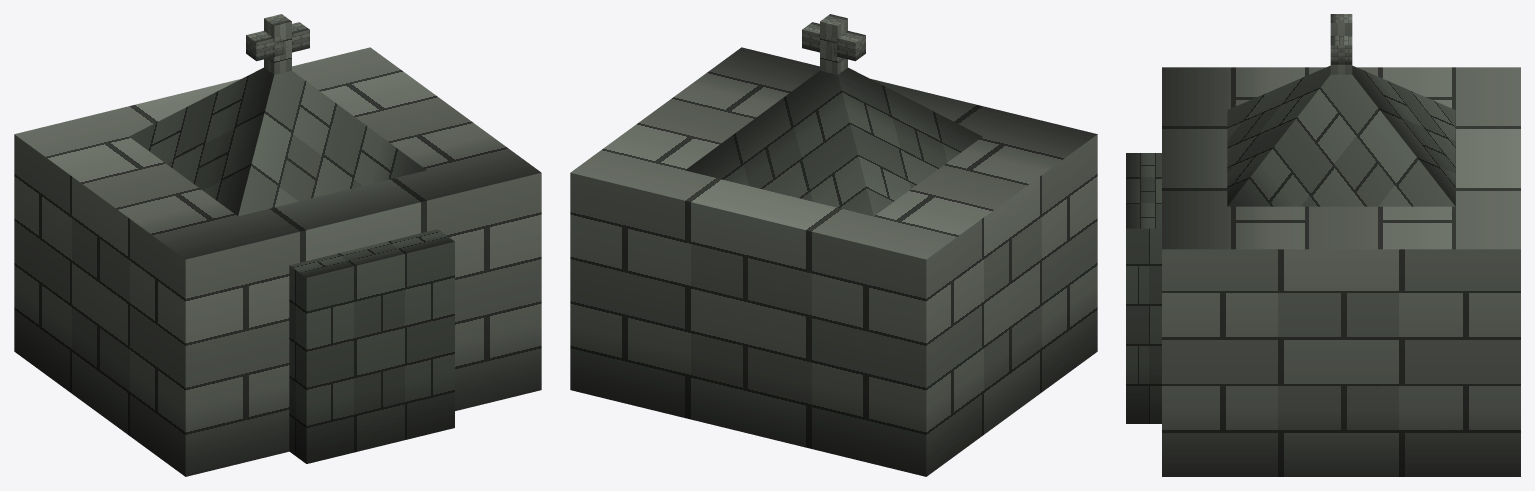
Rendered from crypt.glb.
3 renders of one model, left to right at view 1: azimuth 30°, elevation 25°; view 2: azimuth 150°, elevation 25°; view 3: azimuth 270°, elevation 25°, orthographic. The views are drawn at different scales.
Visible parts, largest first — view 1: crypt; view 2: crypt; view 3: crypt.
Boxes of the visible parts, x1,y1,x2,y2 form: crypt: [14, 14, 541, 476]; crypt: [570, 14, 1097, 476]; crypt: [1126, 14, 1520, 476].
Bounding box in the file's own units: 1.2 × 1.13 × 1.1.
Materials: 1 (1 with a texture image).
